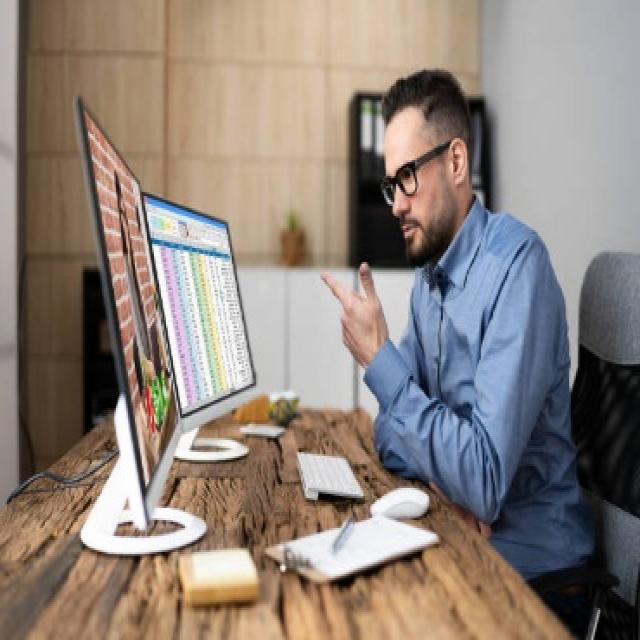adult: (321, 41, 598, 626)
